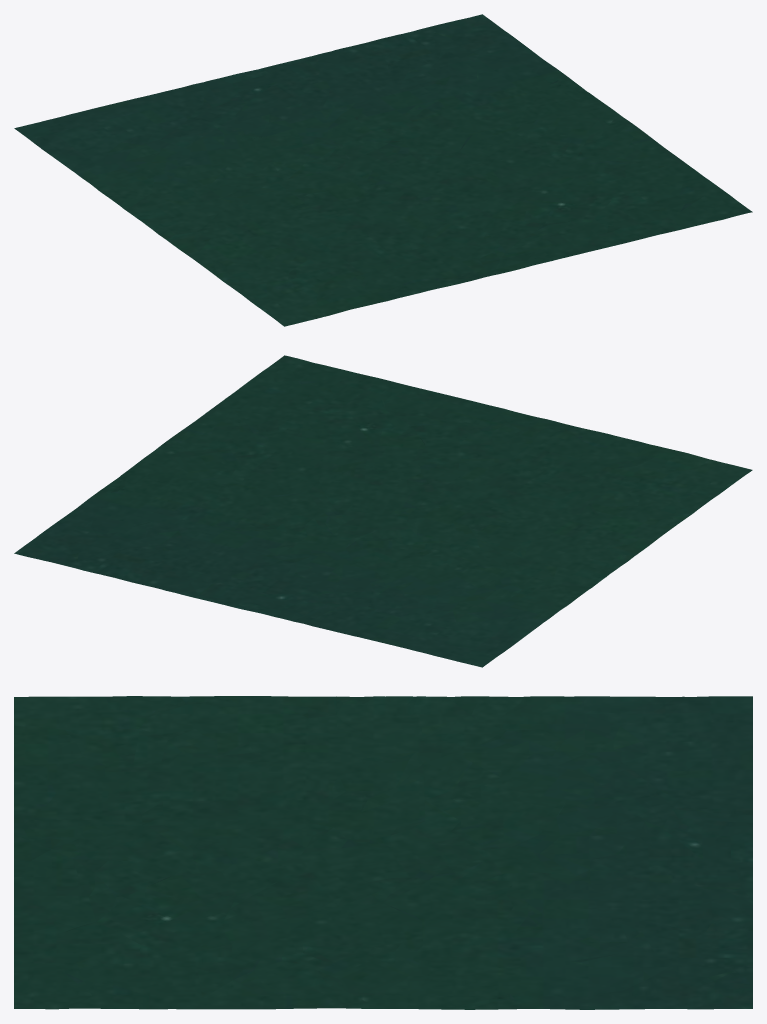
The picture shows the model from 3 angles, top to bottom: view 1: azimuth 30°, elevation 25°; view 2: azimuth 150°, elevation 25°; view 3: azimuth 270°, elevation 25°; orthographic projection. The views are drawn at different scales.
Bounding box in the file's own units: 104 × 0.425 × 104.
3 materials, 3 textured.
